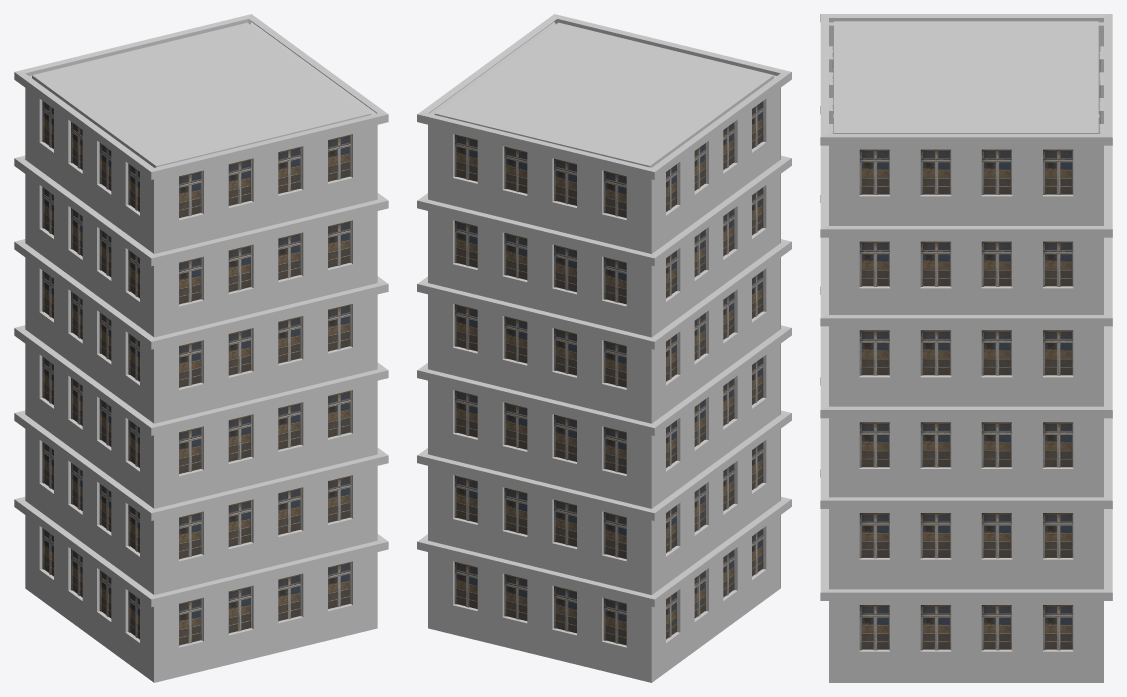
The model's file is destroyedbuilmy.fbx.
The picture shows the model from 3 angles, left to right: view 1: azimuth 30°, elevation 25°; view 2: azimuth 150°, elevation 25°; view 3: azimuth 270°, elevation 25°; orthographic projection. The views are drawn at different scales.
Visible parts, largest first — view 1: Cube.003; view 2: Cube.003; view 3: Cube.003.
Boxes of the visible parts, left/top/right/bottom form: Cube.003: left=14, top=14, right=388, bottom=682; Cube.003: left=417, top=14, right=791, bottom=682; Cube.003: left=820, top=14, right=1112, bottom=682.
Bounding box in the file's own units: 850 × 1762 × 849.
